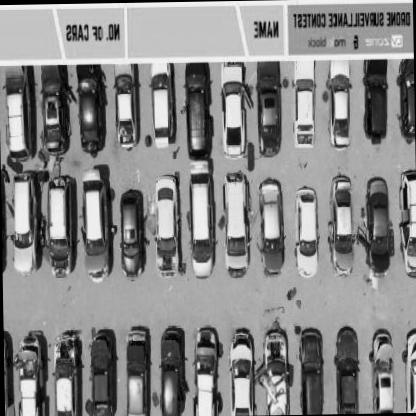car: (38, 68, 70, 170), (74, 74, 107, 172), (152, 176, 182, 282), (82, 174, 110, 287), (182, 60, 211, 159), (216, 60, 242, 164), (254, 67, 280, 171), (328, 182, 354, 280), (222, 178, 246, 284), (364, 174, 390, 268), (292, 194, 318, 288), (112, 75, 138, 168), (12, 348, 48, 415), (118, 184, 144, 276), (2, 80, 26, 178), (325, 57, 349, 154), (258, 188, 282, 285), (363, 58, 389, 146), (49, 348, 82, 415), (291, 57, 315, 148), (396, 169, 415, 282), (150, 62, 173, 154), (192, 345, 222, 415), (334, 330, 358, 413), (121, 344, 149, 415), (85, 347, 114, 415), (158, 346, 186, 416), (296, 346, 324, 412), (228, 346, 255, 414), (393, 58, 413, 148), (370, 331, 392, 411), (400, 328, 415, 412)
